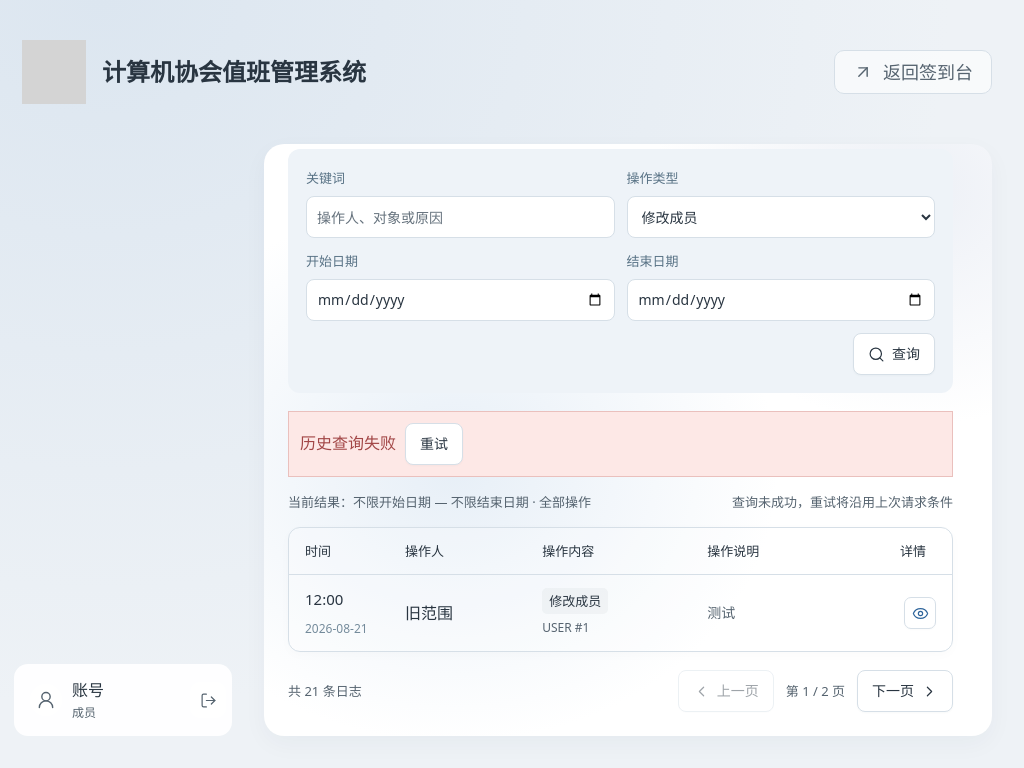
Test: LogsPage request states › keeps applied conditions after a failed history navigation and retries its original snapshot
(page scrolled)
Click the button "下一页". click: click(905, 691)
box: [857,670,953,712]
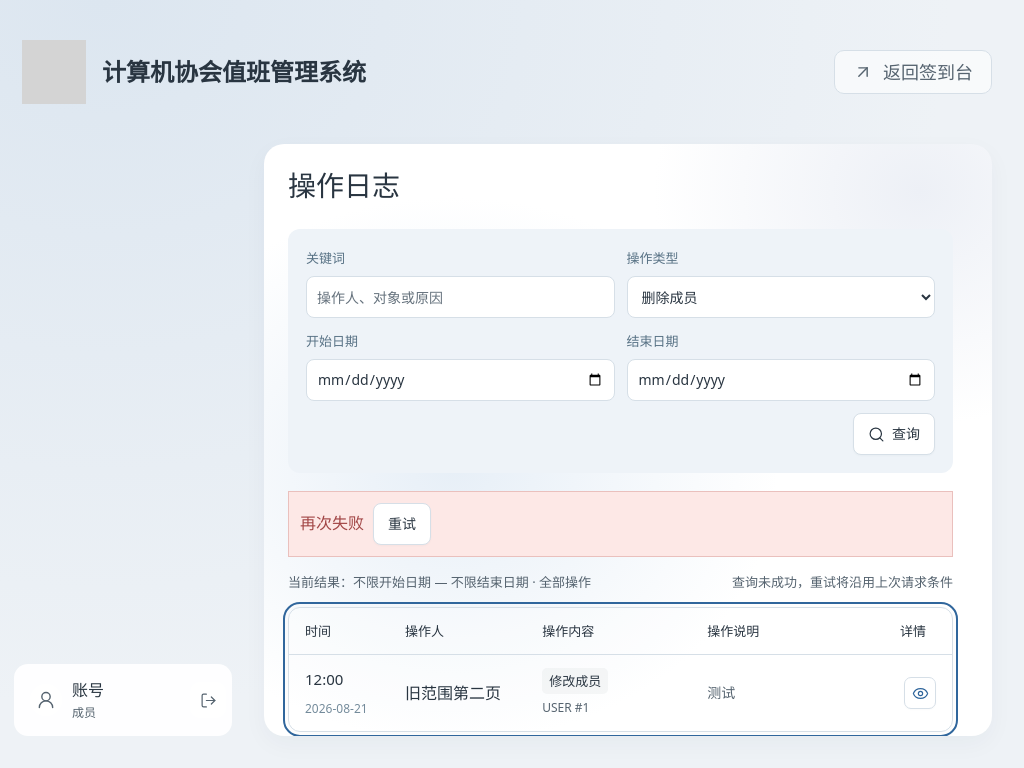
Select "修改成员" in the dropdown named "logActionType". click: (781, 297)
box: [626,276,935,318]
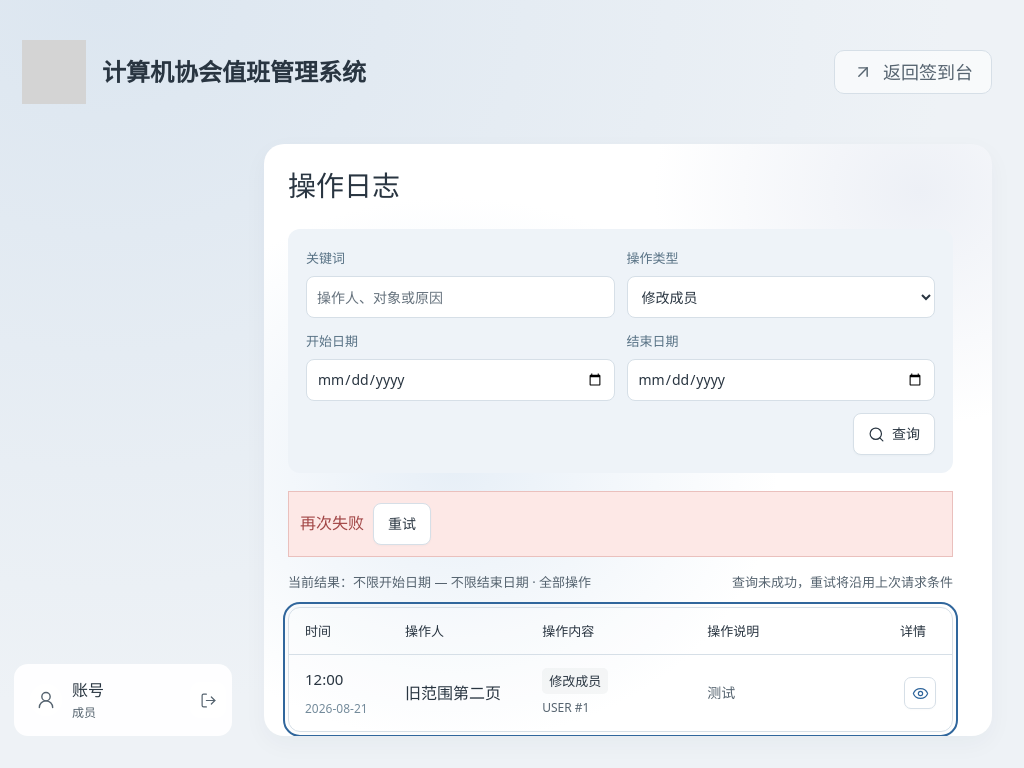
Click the button "重试". click: click(402, 524)
box: [373,503,431,545]
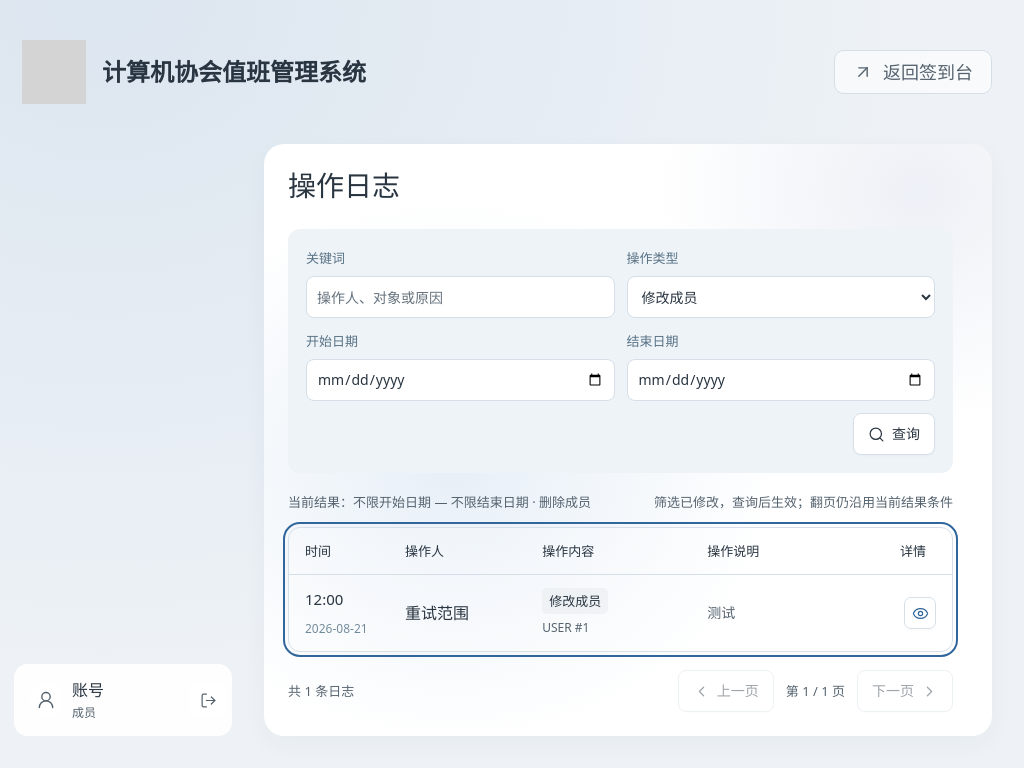
Result: the text "重试范围" is shown at [405,602,469,624]
